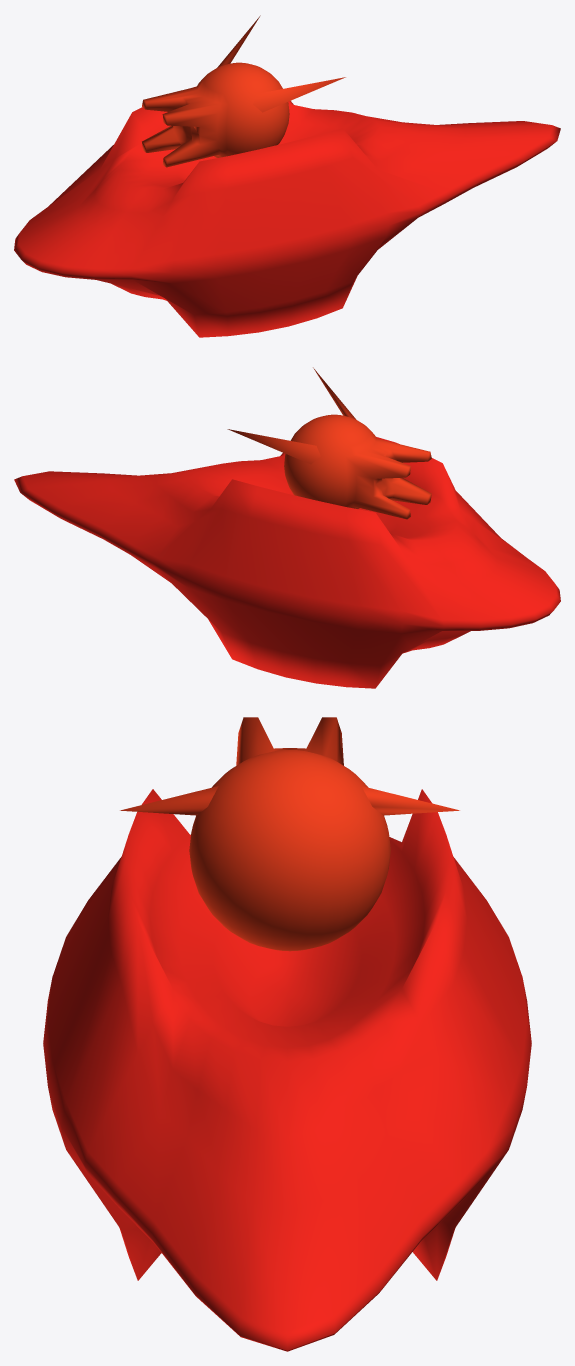
The model's file is UFO default.fbx.
3 renders of one model, top to bottom at view 1: azimuth 30°, elevation 25°; view 2: azimuth 150°, elevation 25°; view 3: azimuth 270°, elevation 25°, orthographic. The views are drawn at different scales.
Parts seen in each view (by area): view 1: Body, Gun; view 2: Body, Gun; view 3: Body, Gun.
Part boxes in pixels (bbox=[...]): Body: bbox=[14, 86, 560, 337]; Gun: bbox=[142, 15, 345, 167]; Body: bbox=[14, 437, 560, 688]; Gun: bbox=[227, 367, 431, 519]; Body: bbox=[43, 789, 531, 1351]; Gun: bbox=[120, 717, 459, 951].
Size of the model in its own units: 1.48 by 0.6215 by 0.5806.
